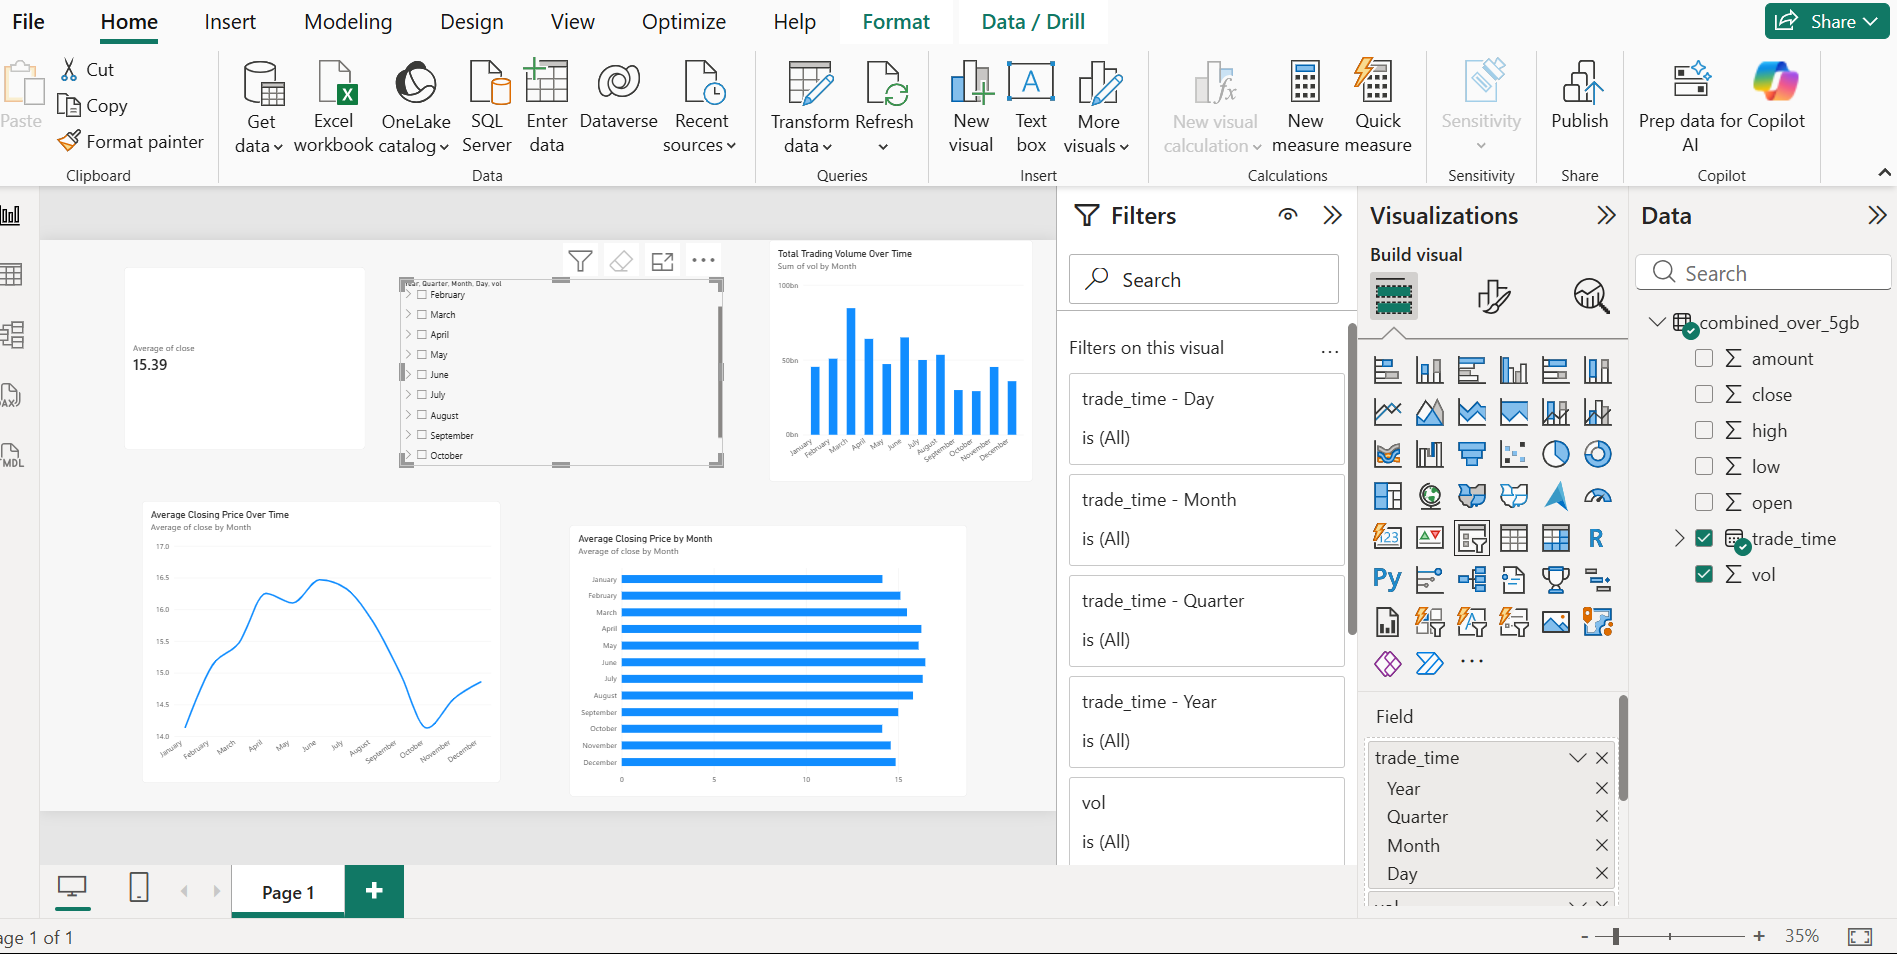

The page's visual inventory and layout, read from the dashboard file:
{"tool":"powerbi","page":{"name":"Page 1","canvas":[1920,1080],"ordinal":0},"visuals":[{"type":"cardVisual","fields":{"Data":["Avg(combined_over_5gb.close)"]},"box":[158.7,51,456.4,345.8],"z":0},{"type":"clusteredBarChart","title":"Average Closing Price by Month","fields":{"Category":["combined_over_5gb.trade_time.Variation.Date Hierarchy.Year","combined_over_5gb.trade_time.Variation.Date Hierarchy.Quarter","combined_over_5gb.trade_time.Variation.Date Hierarchy.Month","combined_over_5gb.trade_time.Variation.Date Hierarchy.Day"],"Y":["Avg(combined_over_5gb.close)"]},"box":[1000.6,538.6,751.2,513.1],"z":1},{"type":"lineChart","title":"Average Closing Price Over Time","fields":{"Category":["combined_over_5gb.trade_time.Variation.Date Hierarchy.Year","combined_over_5gb.trade_time.Variation.Date Hierarchy.Quarter","combined_over_5gb.trade_time.Variation.Date Hierarchy.Month","combined_over_5gb.trade_time.Variation.Date Hierarchy.Day"],"Y":["Avg(combined_over_5gb.close)"]},"box":[192.8,493.2,677.5,532.9],"z":2},{"type":"slicer","title":"Total Trading Volume Over Time","fields":{"Values":["combined_over_5gb.trade_time.Variation.Date Hierarchy.Year","combined_over_5gb.trade_time.Variation.Date Hierarchy.Quarter","combined_over_5gb.trade_time.Variation.Date Hierarchy.Month","combined_over_5gb.trade_time.Variation.Date Hierarchy.Day","combined_over_5gb.vol"]},"box":[680.3,73.7,609.5,354.3],"z":3},{"type":"columnChart","title":"Total Trading Volume Over Time","fields":{"Category":["combined_over_5gb.trade_time.Variation.Date Hierarchy.Year","combined_over_5gb.trade_time.Variation.Date Hierarchy.Quarter","combined_over_5gb.trade_time.Variation.Date Hierarchy.Month","combined_over_5gb.trade_time.Variation.Date Hierarchy.Day"],"Y":["Sum(combined_over_5gb.vol)"]},"box":[1377.6,0,498.9,456.4],"z":4}]}

Visuals, with their boxes on the page's 1920x1080 design canvas (x1, y1, x2, y2). These are canvas units, not pixel positions in the 1897x954 screenshot, which may show the page scaled, cropped or inside an application window:
cardVisual - Avg(combined_over_5gb.close): left=159, top=51, right=615, bottom=397
"Average Closing Price by Month" clusteredBarChart: left=1001, top=539, right=1752, bottom=1052
"Average Closing Price Over Time" lineChart: left=193, top=493, right=870, bottom=1026
"Total Trading Volume Over Time" slicer: left=680, top=74, right=1290, bottom=428
"Total Trading Volume Over Time" columnChart: left=1378, top=0, right=1876, bottom=456
